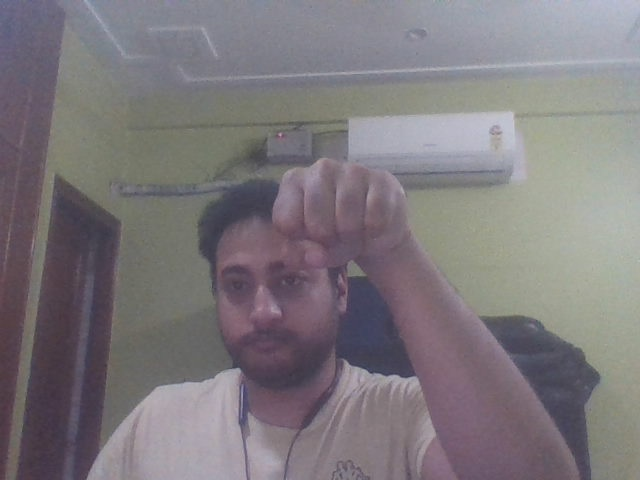Yes: (260, 153, 468, 313)
